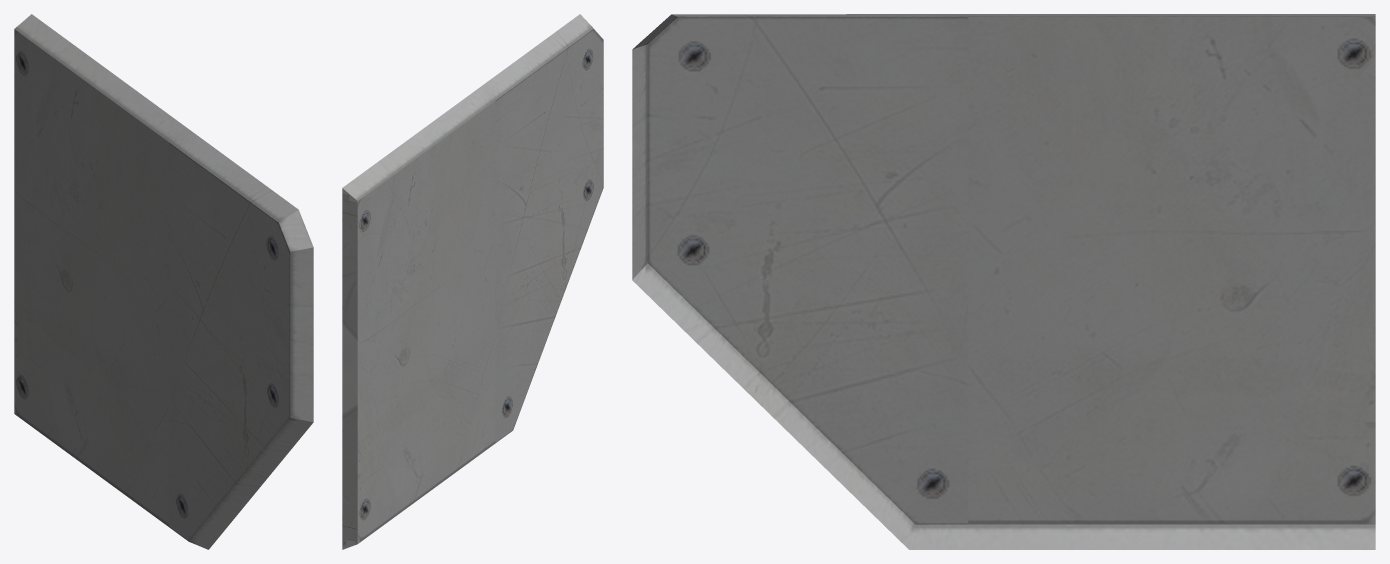
The model's file is SM_CornerTop1.fbx.
The picture shows the model from 3 angles, left to right: view 1: azimuth 30°, elevation 25°; view 2: azimuth 150°, elevation 25°; view 3: azimuth 270°, elevation 25°; orthographic projection. The views are drawn at different scales.
Parts seen in each view (by area): view 1: SM_CornerTop1_LOD0; view 2: SM_CornerTop1_LOD0; view 3: SM_CornerTop1_LOD0.
Part boxes in pixels (x1,y1,x2,y2): SM_CornerTop1_LOD0: (14,14,313,549); SM_CornerTop1_LOD0: (342,14,603,549); SM_CornerTop1_LOD0: (632,14,1375,549).
Bounding box in the file's own units: 5 × 140 × 111.
1 material, 1 textured.
